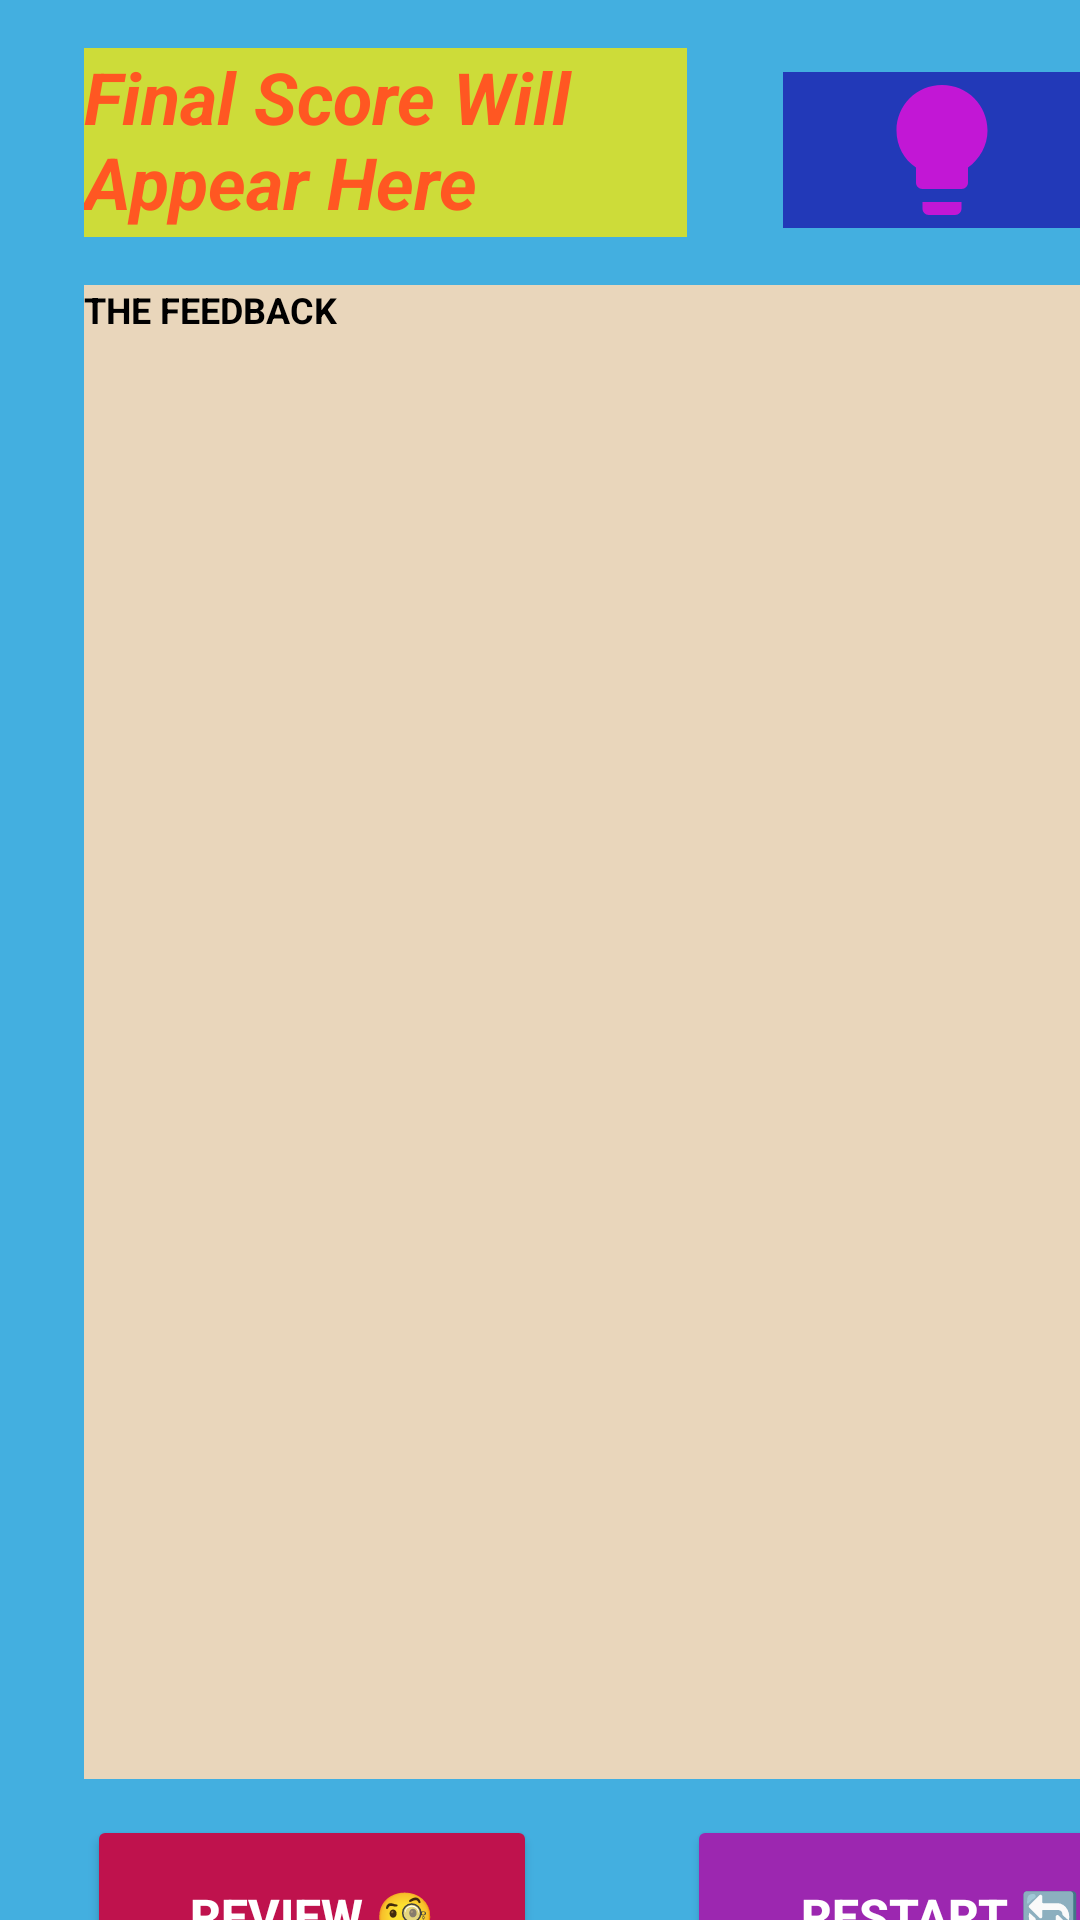

Named icons in this screenshot (1080w x 1920h) and their bounding boxes, (x1, y1, x2, y2):
lightbulb: (783, 72, 1080, 228)
